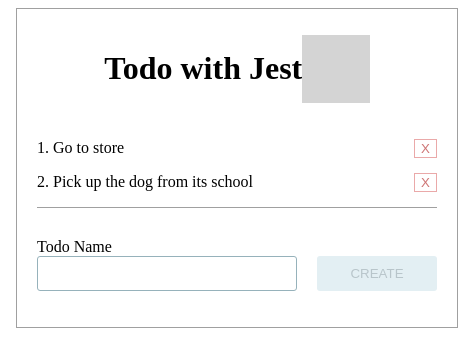
Test case: ToDoApp component › Remove todo
Click the button with class "delete" in the row of "1. Go to store": (426, 148) top-left (414, 139), bottom-right (437, 158)
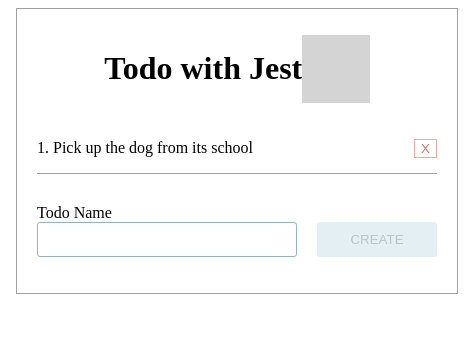
Result: the number of elements with class "todo-item" is 1 at top-left (37, 139), bottom-right (437, 158)
